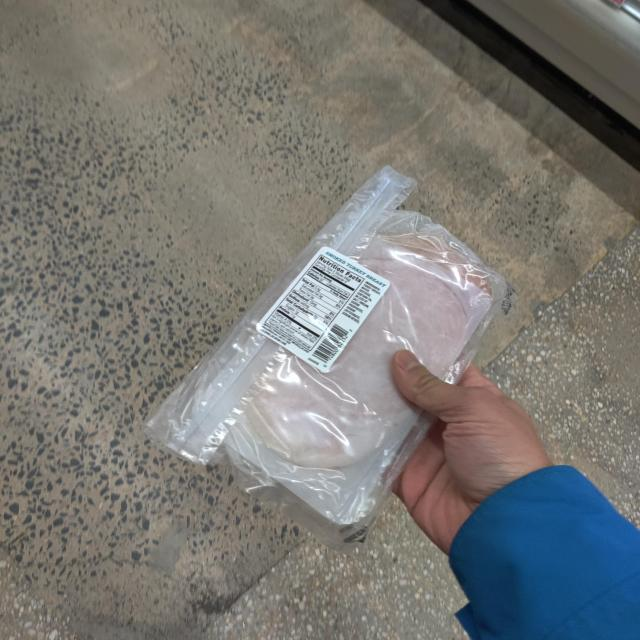Meat: (146, 164, 514, 549)
